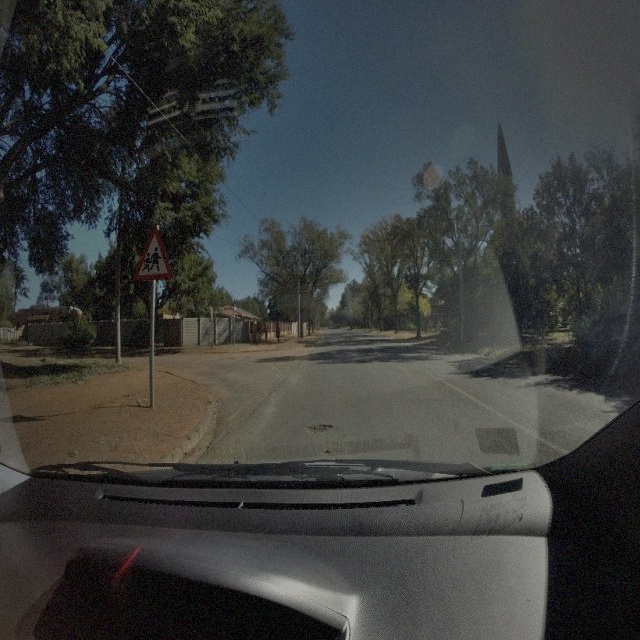pothole: (304, 421, 334, 436)
